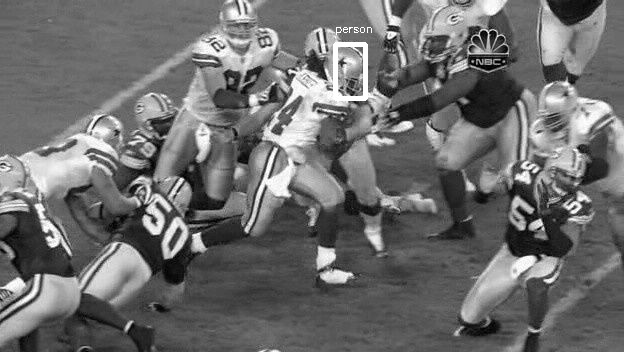person: (329, 48, 364, 95), (328, 48, 363, 95), (330, 48, 365, 95), (329, 47, 364, 94), (329, 49, 364, 96)
target_negative: (352, 104, 542, 250), (313, 135, 610, 215), (277, 211, 459, 290), (45, 300, 110, 341), (527, 259, 556, 343), (379, 350, 618, 351)
